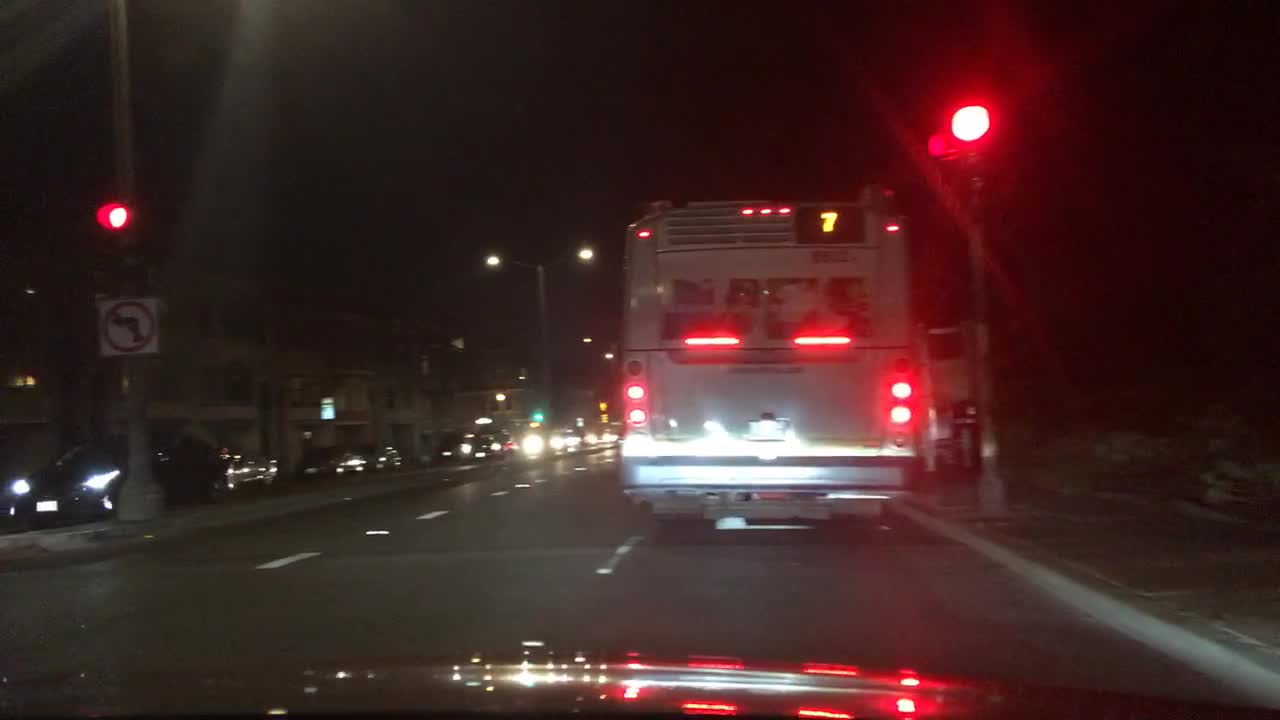bus: (617, 181, 913, 534)
car: (0, 431, 225, 530), (219, 445, 282, 495), (296, 445, 367, 479), (434, 428, 492, 464), (355, 443, 402, 472), (579, 419, 621, 448), (546, 424, 586, 453), (516, 427, 550, 458), (489, 427, 516, 452)
traffic light: (946, 95, 997, 152), (95, 199, 132, 238)
traffic sign: (92, 290, 161, 356), (320, 394, 335, 420), (598, 413, 609, 424), (598, 401, 607, 410)
truck: (909, 319, 1005, 470)
